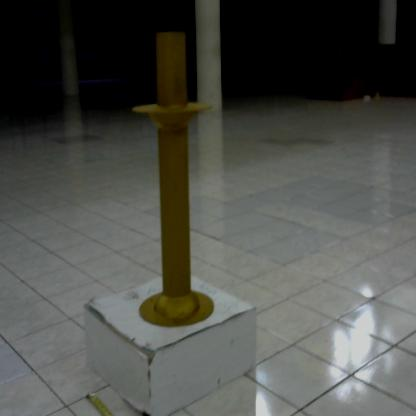pole: (125, 21, 226, 341)
